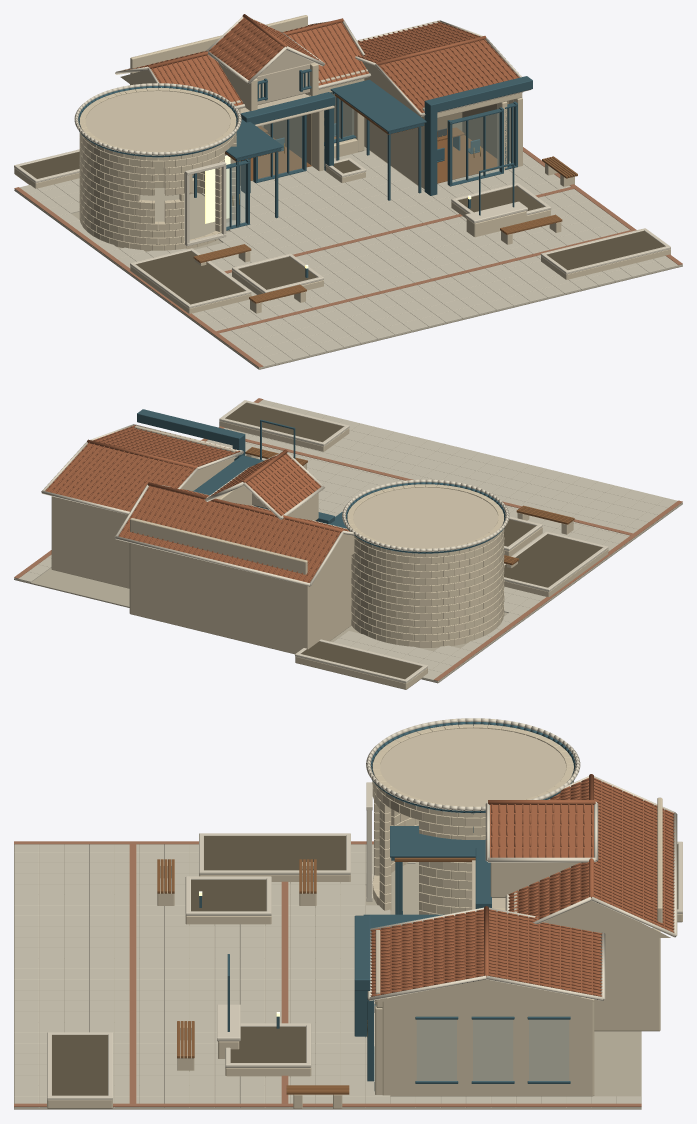
Rendered from ecc-courtyard-compressed.glb.
The picture shows the model from 3 angles, top to bottom: view 1: azimuth 30°, elevation 25°; view 2: azimuth 150°, elevation 25°; view 3: azimuth 270°, elevation 25°; orthographic projection. The views are drawn at different scales.
Parts seen in each view (by area): view 1: ECC travertine paving, ECC warm limestone, ECC clay roof, ECC powdercoat blue, ECC cut sandstone, ECC warm soffit, ECC soil, ECC courtyard glass, ECC warm timber, ECC brick paving, ECC plaster, ECC mortar (+1 smaller); view 2: ECC warm limestone, ECC travertine paving, ECC clay roof, ECC cut sandstone, ECC warm soffit, ECC soil, ECC powdercoat blue, ECC mortar, ECC brick paving, ECC warm timber; view 3: ECC travertine paving, ECC warm limestone, ECC clay roof, ECC cut sandstone, ECC soil, ECC warm soffit, ECC powdercoat blue, ECC mortar, ECC courtyard glass, ECC brick paving, ECC warm timber.
Part boxes in pixels (box(x1,y1,x2,y2)): ECC travertine paving: box(14, 150, 682, 368); ECC warm limestone: box(14, 15, 670, 313); ECC clay roof: box(123, 14, 519, 112); ECC powdercoat blue: box(78, 69, 532, 277); ECC cut sandstone: box(14, 16, 670, 308); ECC warm soffit: box(85, 50, 522, 151); ECC soil: box(20, 151, 664, 304); ECC courtyard glass: box(226, 93, 513, 226); ECC warm timber: box(193, 94, 577, 303); ECC brick paving: box(14, 147, 682, 367); ECC plaster: box(262, 93, 508, 165); ECC mortar: box(14, 147, 682, 369); ECC warm limestone: box(51, 421, 608, 689); ECC travertine paving: box(14, 399, 682, 681); ECC clay roof: box(45, 425, 349, 582); ECC cut sandstone: box(41, 400, 608, 683); ECC warm soffit: box(134, 425, 498, 548); ECC soil: box(225, 403, 602, 679); ECC powdercoat blue: box(137, 409, 505, 553); ECC mortar: box(14, 503, 682, 683); ECC brick paving: box(14, 398, 682, 680); ECC warm timber: box(245, 447, 574, 565); ECC travertine paving: box(14, 844, 641, 1107); ECC warm limestone: box(47, 724, 682, 1108); ECC clay roof: box(370, 774, 674, 996); ECC cut sandstone: box(47, 718, 682, 1100); ECC soil: box(52, 836, 677, 1095); ECC warm soffit: box(375, 727, 566, 1000); ECC powdercoat blue: box(199, 721, 575, 1090); ECC mortar: box(14, 844, 641, 1109); ECC courtyard glass: box(417, 1020, 568, 1081); ECC brick paving: box(14, 841, 641, 1106); ECC warm timber: box(157, 857, 475, 1094).
Size of the model in its own units: 19.06 by 5.92 by 20.25.
